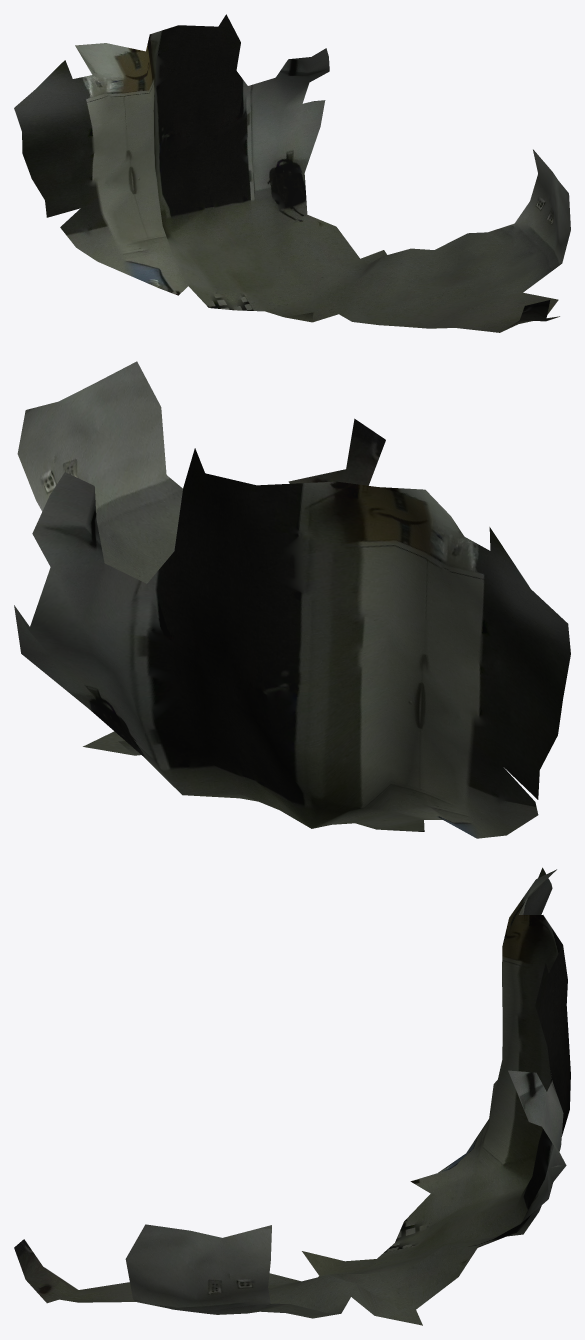
File: mesh_gen.obj
3 views of the same model, one above another, from view 1: azimuth 30°, elevation 25°; view 2: azimuth 150°, elevation 25°; view 3: azimuth 270°, elevation 25° (orthographic). The views are drawn at different scales.
Size of the model in its own units: 4.78 by 2.73 by 4.31.
1 material, 1 textured.
